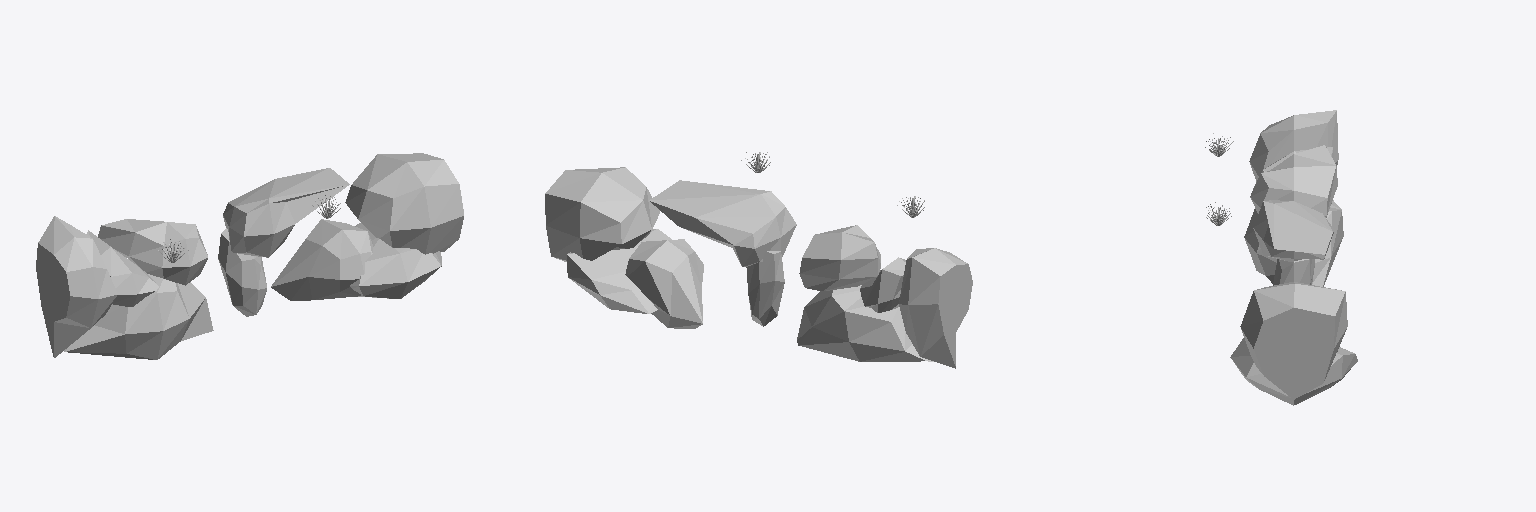
Rendered from Land2.obj.
3 renders of one model, left to right at view 1: azimuth 30°, elevation 25°; view 2: azimuth 150°, elevation 25°; view 3: azimuth 270°, elevation 25°, orthographic.
Parts seen in each view (by area): view 1: group1 pCube3, group1 pCube9, group1 pCube7, pCube4 group1, group1 pCube5, group1 pCube8, group1 pCube6, group1 pCube11, group1 pCube10; view 2: group1 pCube3, pCube4 group1, group1 pCube9, group1 pCube7, group1 pCube5, group1 pCube8, group1 pCube6, group1 pCube11, group1 pCube10; view 3: group1 pCube3, pCube4 group1, group1 pCube8, group1 pCube9, group1 pCube6, group1 pCube7, group1 pCube11.
Boxes of the visible parts, <box> form: group1 pCube3: <box>345,153,463,254</box>; group1 pCube9: <box>36,216,117,357</box>; group1 pCube7: <box>64,261,213,359</box>; pCube4 group1: <box>223,168,349,257</box>; group1 pCube5: <box>271,219,372,300</box>; group1 pCube8: <box>98,219,207,285</box>; group1 pCube6: <box>350,223,441,298</box>; group1 pCube11: <box>218,228,266,316</box>; group1 pCube10: <box>86,230,158,306</box>; group1 pCube3: <box>545,167,659,261</box>; pCube4 group1: <box>649,180,796,266</box>; group1 pCube9: <box>899,248,972,368</box>; group1 pCube7: <box>797,285,933,361</box>; group1 pCube5: <box>625,239,703,328</box>; group1 pCube8: <box>799,225,880,290</box>; group1 pCube6: <box>567,229,671,313</box>; group1 pCube11: <box>746,251,784,326</box>; group1 pCube10: <box>860,257,905,312</box>; group1 pCube3: <box>1240,282,1347,399</box>; pCube4 group1: <box>1253,200,1334,261</box>; group1 pCube8: <box>1250,145,1337,217</box>; group1 pCube9: <box>1249,110,1338,181</box>; group1 pCube6: <box>1230,338,1357,405</box>; group1 pCube7: <box>1244,200,1343,286</box>; group1 pCube11: <box>1273,259,1314,285</box>.
Size of the model in its own units: 5.98 by 2.15 by 2.07.